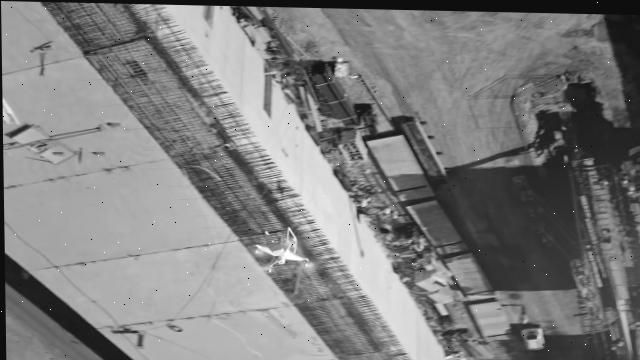drone: (249, 226, 317, 275)
